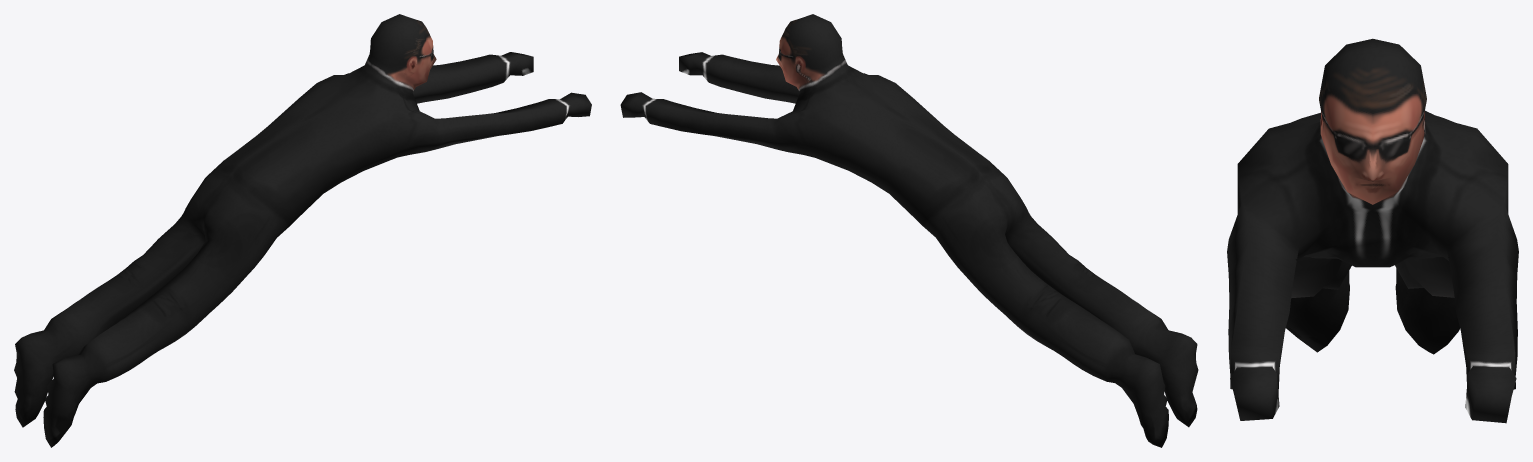
File: nsaProjectile.FBX
3 renders of one model, left to right at view 1: azimuth 30°, elevation 25°; view 2: azimuth 150°, elevation 25°; view 3: azimuth 270°, elevation 25°, orthographic. The views are drawn at different scales.
Visible parts, largest first — view 1: ZBrush_defualt_group; view 2: ZBrush_defualt_group; view 3: ZBrush_defualt_group.
Part boxes in pixels (x1,y1,x2,y2): ZBrush_defualt_group: [14, 14, 591, 447]; ZBrush_defualt_group: [620, 14, 1198, 447]; ZBrush_defualt_group: [1227, 38, 1518, 423].
Size of the model in its own units: 0.6988 by 0.4224 by 0.1686.
Materials: 1 (1 with a texture image).
